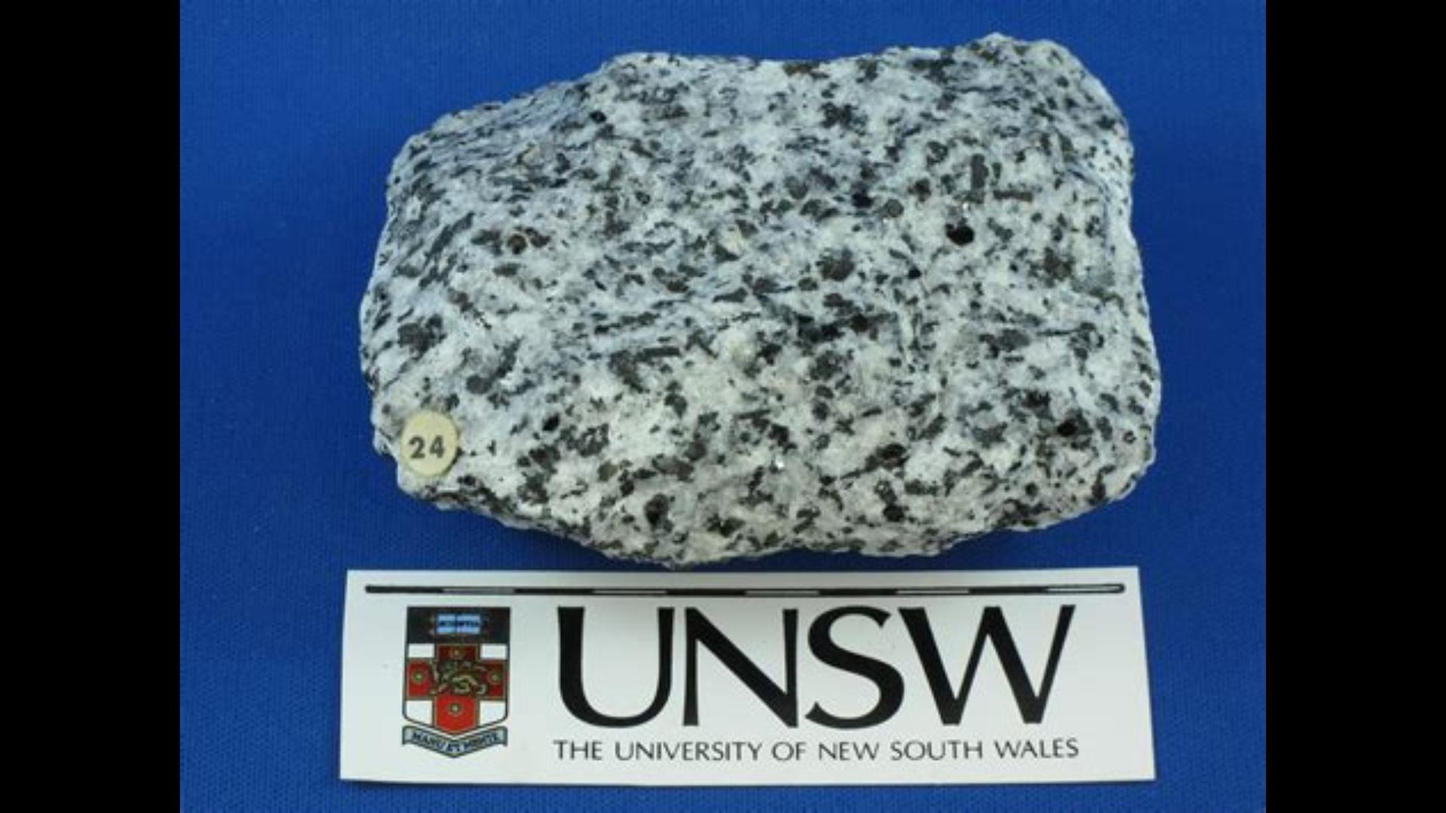rock: (361, 37, 1156, 563)
